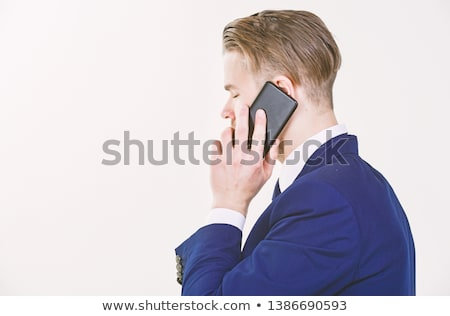phone: (228, 73, 295, 168)
talk: (207, 70, 311, 202)
